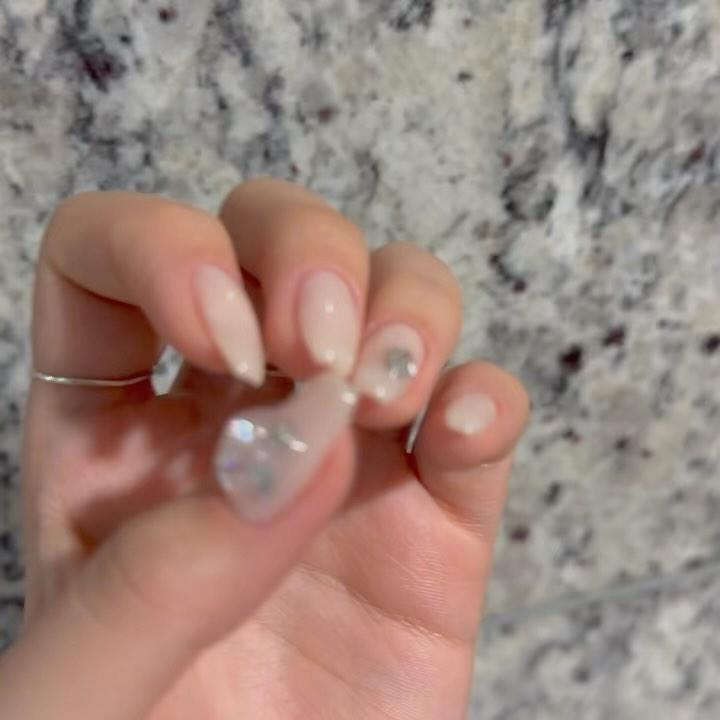nail: (210, 368, 357, 523), (190, 261, 267, 388), (294, 267, 360, 376), (352, 321, 425, 407)
